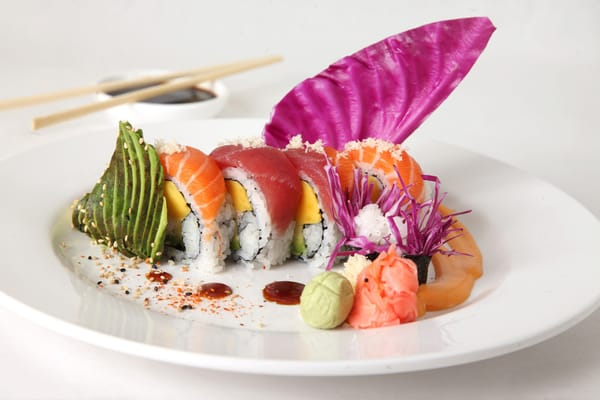sandwich: (2, 51, 284, 131)
